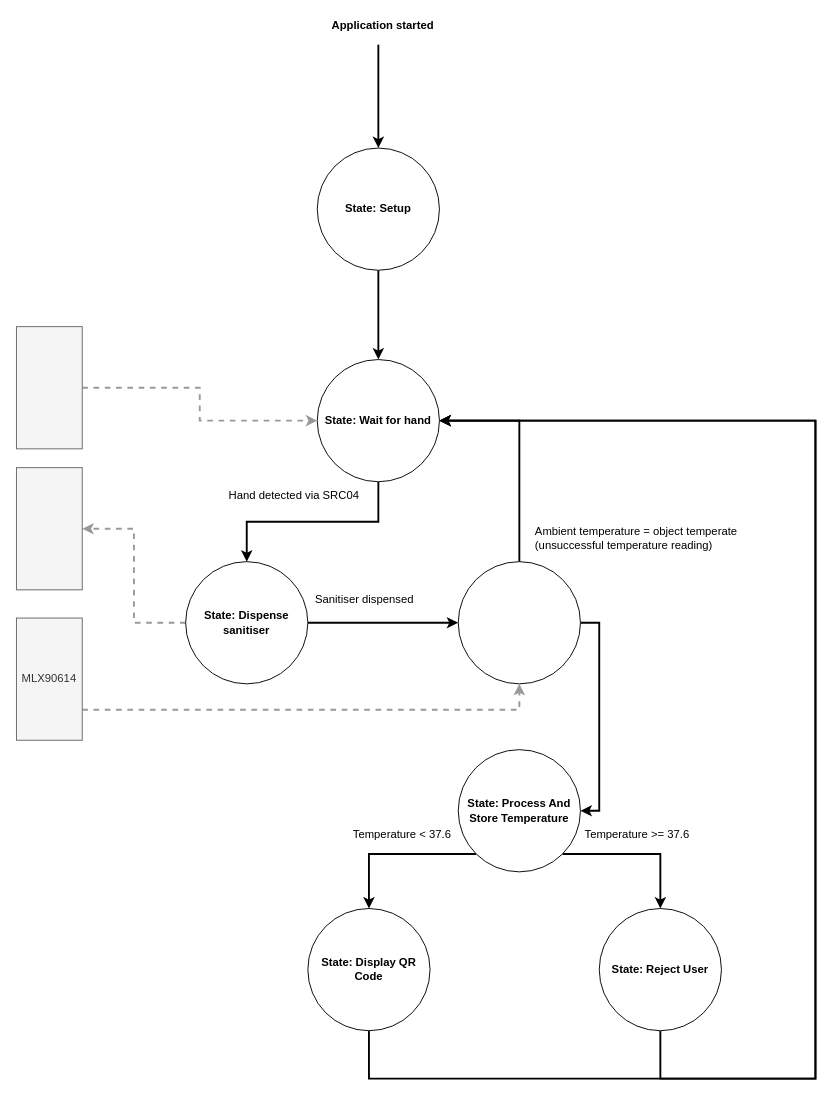
Some shapes in this 840 by 1103 pixel diagram are drawn without their labels. The shapes that lost their labels are listed below. From the top down, each one's centre as x and y in pixels, then its label:
(49,387): SRC04
(49,528): Servo
(518,622): State: Measure Temperature
